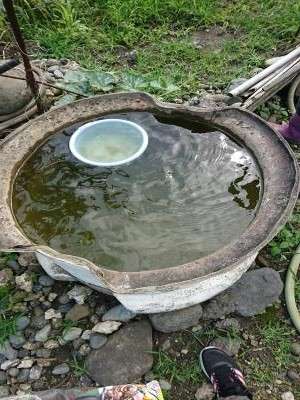bowl: (3, 89, 298, 317), (69, 118, 150, 168)
